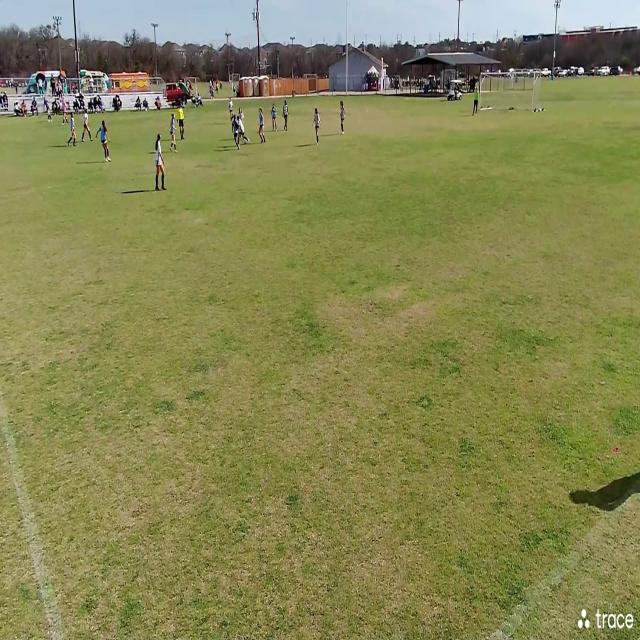team1: (238, 109, 251, 148), (99, 121, 109, 162), (67, 114, 78, 148), (233, 110, 242, 150), (256, 109, 266, 144), (272, 101, 278, 131)
team2: (154, 133, 168, 190), (80, 112, 92, 144), (170, 112, 178, 152), (314, 106, 322, 146), (340, 99, 347, 137), (42, 97, 53, 121), (228, 103, 235, 131), (283, 100, 289, 132), (62, 100, 68, 126)
